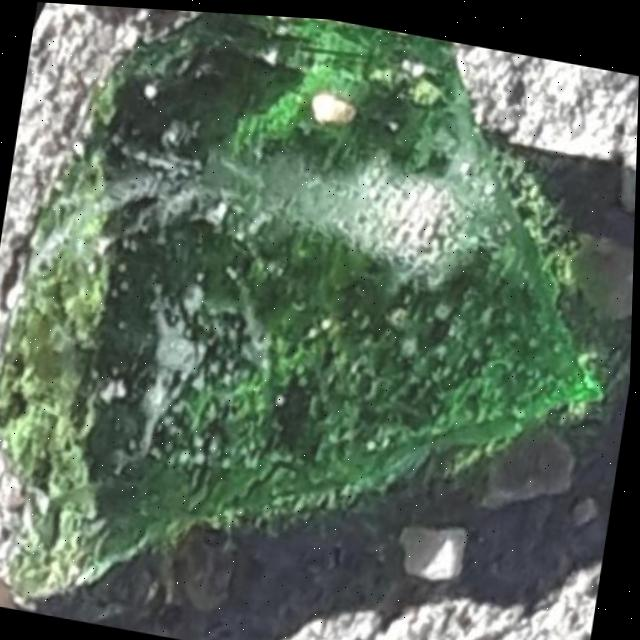Dry: (91, 5, 640, 557)
